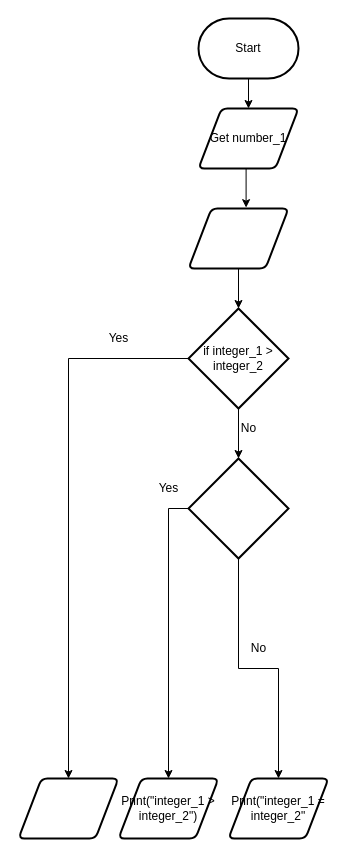
The diagram is 346 pixels wide and 856 high, and some of its shapes have lost their labels. Here are the shapes that lost their labels. From the top down, the centre of each, then its label:
(x=238, y=238): Get number_2
(x=238, y=508): if integer_1 < integer_2
(x=68, y=808): Print("integer_1 < integer_2")
